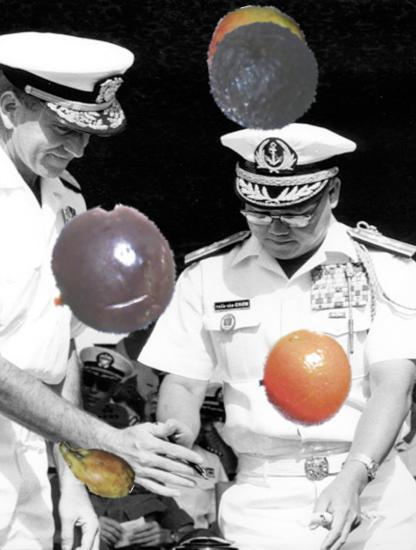Avocado: (206, 16, 330, 140)
Cactus: (51, 425, 139, 513)
Passion: (43, 204, 180, 341)
Pear: (205, 4, 314, 113)
Tangelo: (256, 328, 356, 428)
